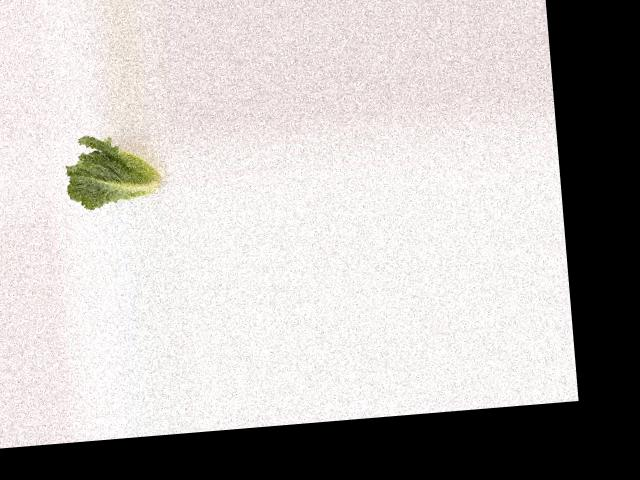lettuce: (60, 132, 174, 214)
